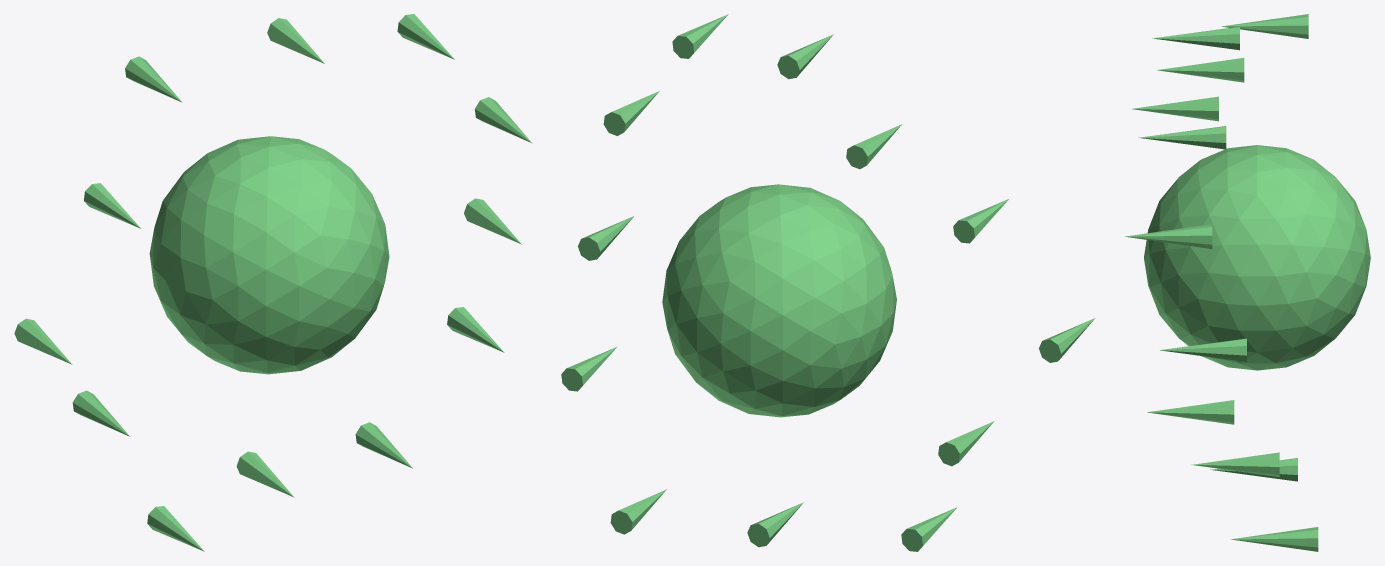
Rendered from nature_162.glb.
3 renders of one model, left to right at view 1: azimuth 30°, elevation 25°; view 2: azimuth 150°, elevation 25°; view 3: azimuth 270°, elevation 25°, orthographic. The views are drawn at different scales.
Visible parts, largest first — view 1: world; view 2: world; view 3: world.
Part boxes in pixels (x1,y1,x2,y2): world: [14, 14, 532, 551]; world: [561, 14, 1095, 551]; world: [1125, 14, 1370, 551].
Size of the model in its own units: 2.09 by 2.03 by 0.9783.
